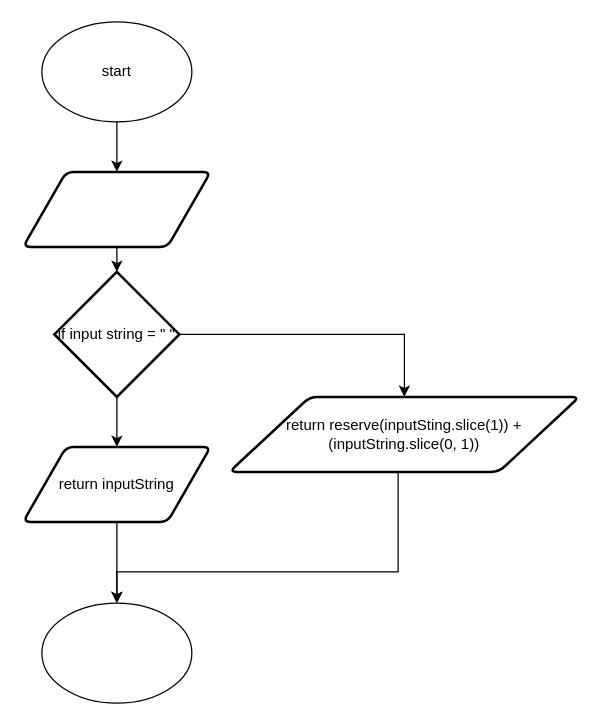
The diagram is 601 pixels wide and 725 high, and some of its shapes have lost their labels. The centre of each missing label's shape, as x and y in pixels:
"get inputString" goes at point (116, 209).
"stop" goes at point (116, 652).
